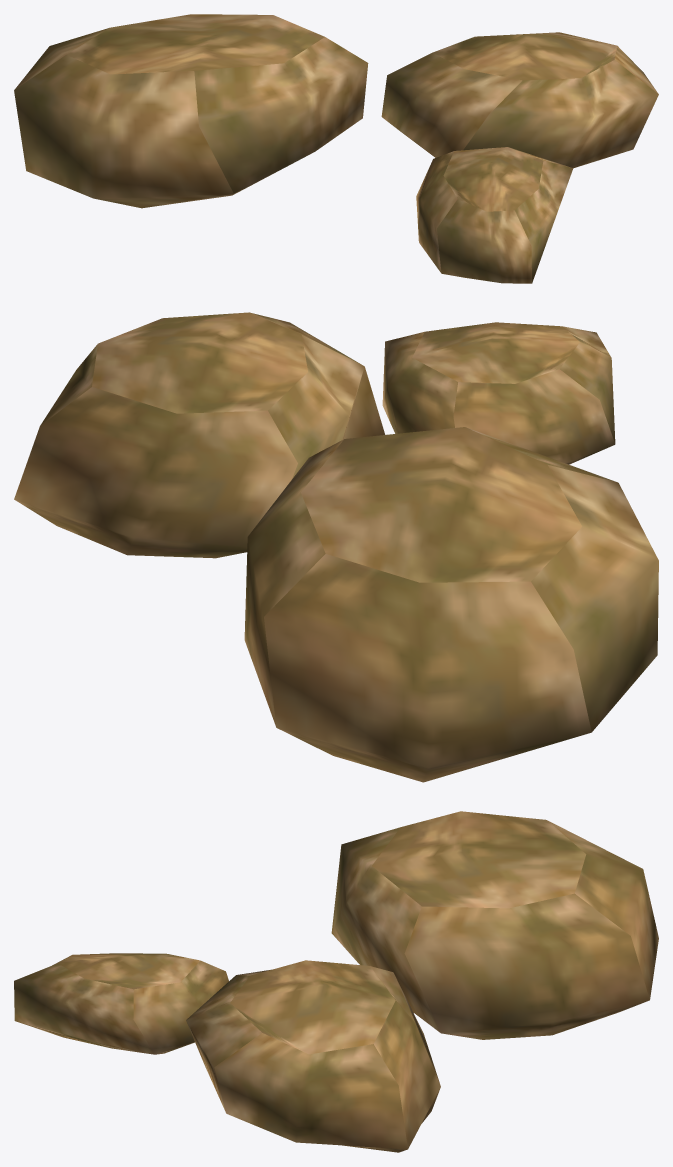
The model's file is M5_Rocks01.glb.
The picture shows the model from 3 angles, top to bottom: view 1: azimuth 30°, elevation 25°; view 2: azimuth 150°, elevation 25°; view 3: azimuth 270°, elevation 25°; orthographic projection. The views are drawn at different scales.
Parts seen in each view (by area): view 1: M5_ROCKS01; view 2: M5_ROCKS01; view 3: M5_ROCKS01.
Boxes of the visible parts, x1=… form: M5_ROCKS01: x1=14, y1=14, x2=658, y2=283; M5_ROCKS01: x1=14, y1=312, x2=658, y2=782; M5_ROCKS01: x1=14, y1=811, x2=658, y2=1152.
Size of the model in its own units: 1.6 by 0.465 by 1.72.
Materials: 1 (1 with a texture image).
